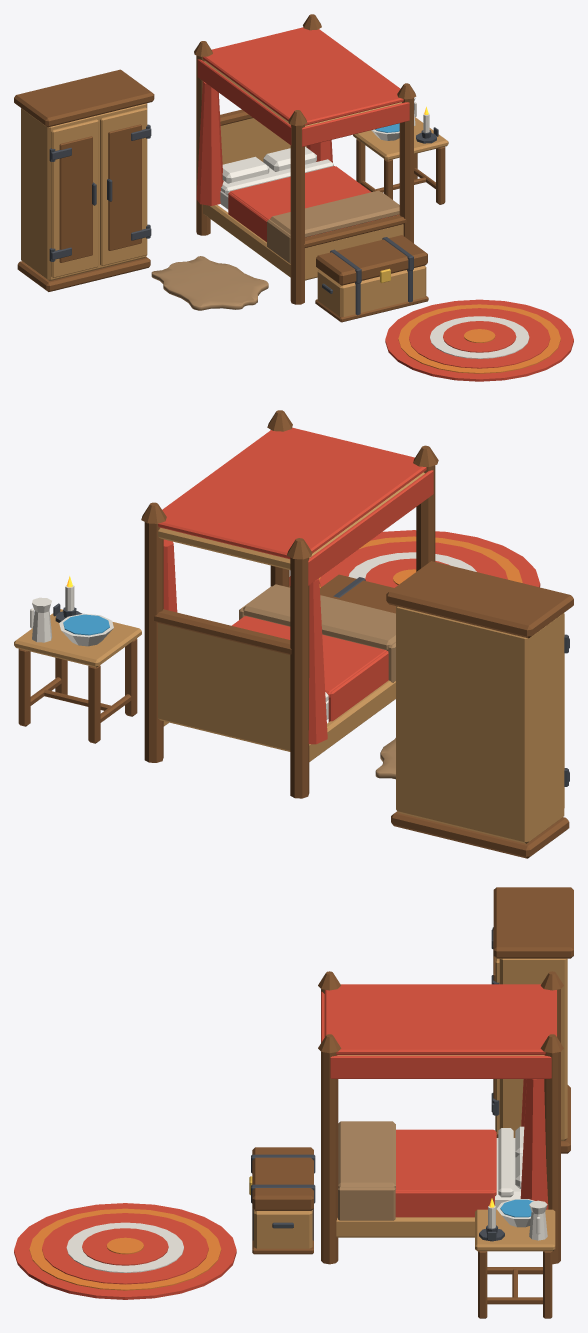
The model's file is medieval-bedroom-set.glb.
3 renders of one model, top to bottom at view 1: azimuth 30°, elevation 25°; view 2: azimuth 150°, elevation 25°; view 3: azimuth 270°, elevation 25°, orthographic. The views are drawn at different scales.
Parts seen in each view (by area): view 1: Bed_Canopy, Wardrobe_Body, Wardrobe_Crown, Rug_Fur_Pelt, Door_L_Panel, Door_R_Panel, Rug_Ring_0, Rug_Ring_2, Door_R, Door_L, Bed_Quilt, Lid (+24 smaller); view 2: Wardrobe_Body, Bed_Canopy, Bed_Headboard, Wardrobe_Crown, Bed_Post_LH, Bed_FurBlanket, Bed_Post_RH, Bed_CanopyValance_-1, Bed, Bed_Quilt, Wardrobe_Plinth, Table_Top (+18 smaller); view 3: Bed_Canopy, Bed, Bed_Quilt, Wardrobe_Crown, Rug_Ring_0, Rug_Ring_2, Wardrobe_Body, Lid, Bed_FurBlanket, Bed_Post_RF, Rug_Ring_1, Bed_Post_RH (+7 smaller).
Part boxes in pixels (<box>): Bed_Canopy: <box>203,27,403,125</box>; Wardrobe_Body: <box>21,103,147,280</box>; Wardrobe_Crown: <box>14,69,154,127</box>; Rug_Fur_Pelt: <box>151,256,268,310</box>; Door_L_Panel: <box>59,136,92,262</box>; Door_R_Panel: <box>108,124,141,250</box>; Rug_Ring_0: <box>385,299,573,381</box>; Rug_Ring_2: <box>409,308,550,368</box>; Door_R: <box>100,107,151,265</box>; Door_L: <box>49,119,98,277</box>; Bed_Quilt: <box>230,166,398,236</box>; Lid: <box>316,235,427,285</box>; Wardrobe_Body: <box>396,606,564,843</box>; Bed_Canopy: <box>158,427,426,559</box>; Bed_Headboard: <box>158,623,290,751</box>; Wardrobe_Crown: <box>386,561,573,638</box>; Bed_Post_LH: <box>290,557,309,798</box>; Bed_FurBlanket: <box>243,584,395,650</box>; Bed_Post_RH: <box>144,522,163,762</box>; Bed_CanopyValance_-1: <box>308,470,433,585</box>; Bed: <box>141,502,290,726</box>; Bed_Quilt: <box>233,616,386,698</box>; Wardrobe_Plinth: <box>391,811,569,858</box>; Table_Top: <box>14,609,141,667</box>; Bed_Canopy: <box>325,984,556,1054</box>; Bed: <box>330,1034,563,1237</box>; Bed_Quilt: <box>395,1130,496,1195</box>; Wardrobe_Crown: <box>493,887,573,958</box>; Rug_Ring_0: <box>14,1203,236,1299</box>; Rug_Ring_2: <box>42,1213,208,1284</box>; Wardrobe_Body: <box>499,958,567,1140</box>; Lid: <box>251,1147,315,1210</box>; Bed_FurBlanket: <box>338,1121,395,1189</box>; Bed_Post_RF: <box>321,1052,338,1264</box>; Rug_Ring_1: <box>29,1208,221,1290</box>; Bed_Post_RH: <box>544,1052,560,1264</box>.
Bounding box in the file's own units: 17.4 × 8.03 × 18.1.
